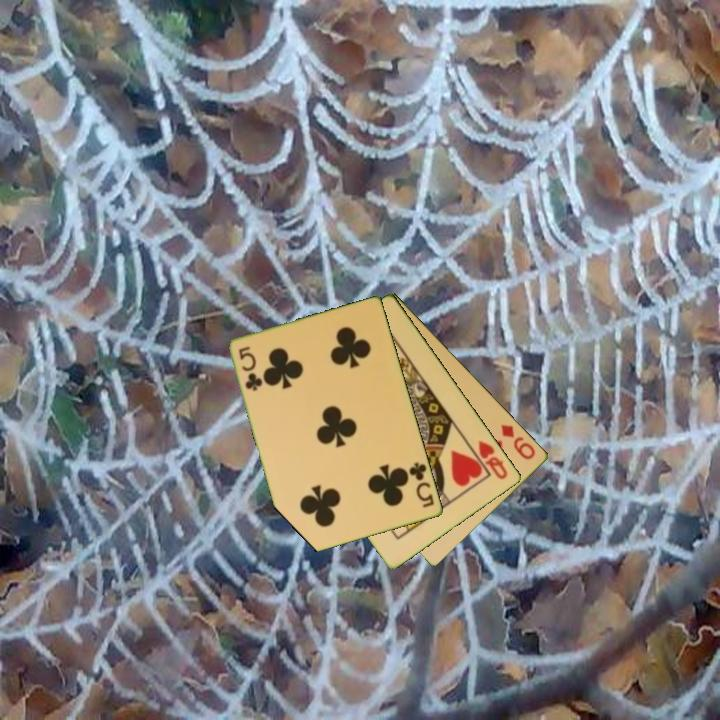5c: (406, 459, 437, 511), (235, 343, 265, 394)
9d: (497, 420, 539, 462)
Qh: (475, 436, 511, 483)
